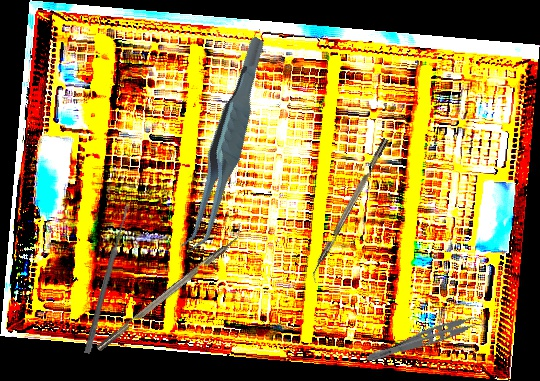Chopper: (90, 222, 250, 352), (306, 137, 396, 285)
Surgical Spoon: (84, 202, 131, 355)
Tissue Forceps: (143, 35, 308, 257), (364, 308, 489, 373)
